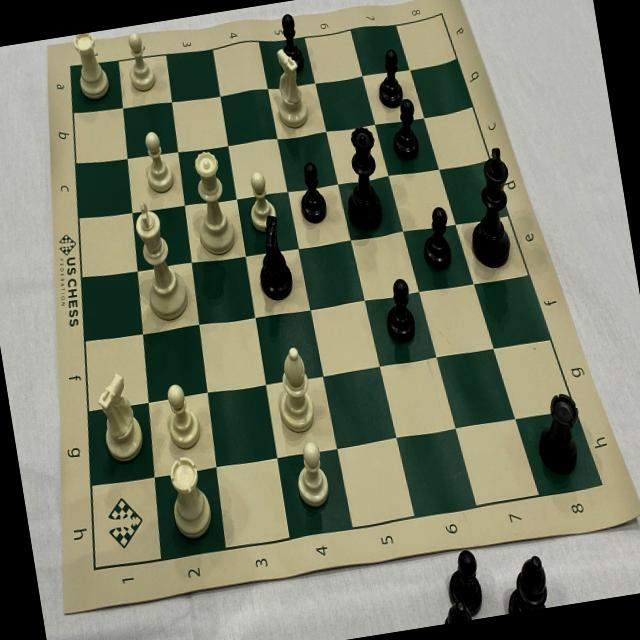black-king: (455, 138, 527, 276)
black-knight: (245, 212, 305, 310)
black-pawn: (373, 270, 422, 351), (384, 94, 429, 170), (414, 202, 458, 278), (289, 156, 335, 228), (267, 8, 311, 78), (366, 44, 408, 114)
black-queen: (331, 116, 396, 238)
black-rook: (524, 384, 592, 484)
white-bishop: (264, 338, 322, 440)
white-king: (125, 194, 195, 326)
white-knight: (87, 358, 151, 468)
white-pawn: (286, 434, 338, 514), (154, 378, 205, 452), (133, 125, 180, 198), (117, 27, 163, 98), (242, 167, 282, 236)
white-queen: (182, 142, 242, 260)
white-rook: (156, 449, 222, 546), (64, 31, 116, 108)
